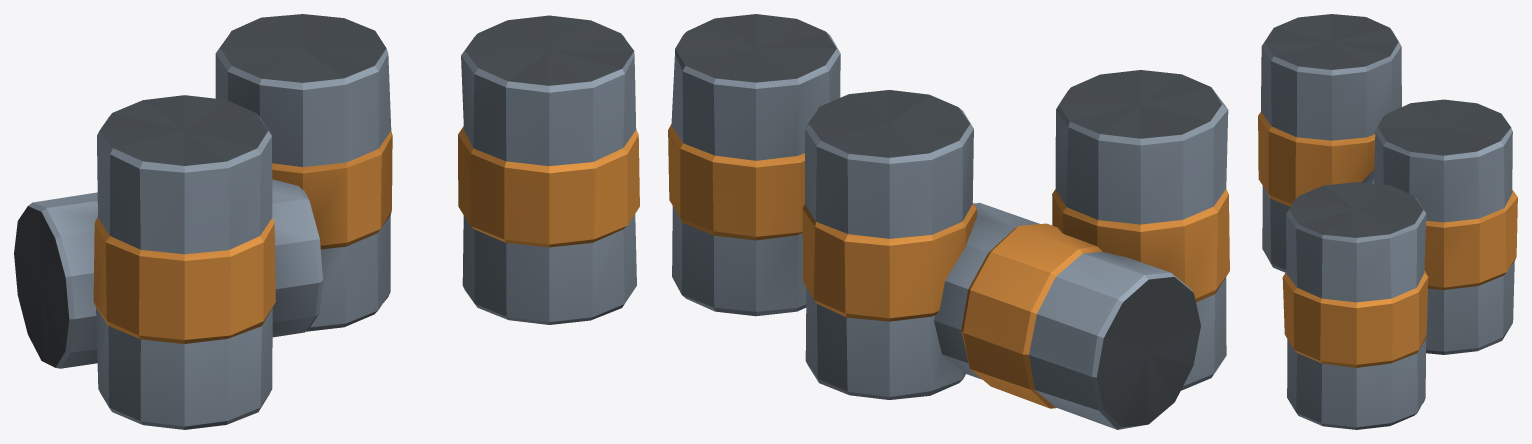
The model's file is obj_barriles_2.glb.
The picture shows the model from 3 angles, left to right: view 1: azimuth 30°, elevation 25°; view 2: azimuth 150°, elevation 25°; view 3: azimuth 270°, elevation 25°; orthographic projection. The views are drawn at different scales.
Visible parts, largest first — view 1: propforge-libre-barriles; view 2: propforge-libre-barriles; view 3: propforge-libre-barriles.
Boxes of the visible parts, left/top/right/bottom form: propforge-libre-barriles: left=14, top=14, right=639, bottom=429; propforge-libre-barriles: left=668, top=14, right=1229, bottom=429; propforge-libre-barriles: left=1258, top=14, right=1517, bottom=429.
Bounding box in the file's own units: 1.03 × 0.4769 × 0.5275.
